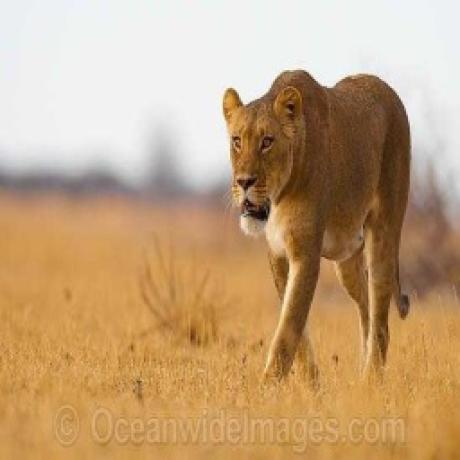Lion: (222, 66, 412, 386)
